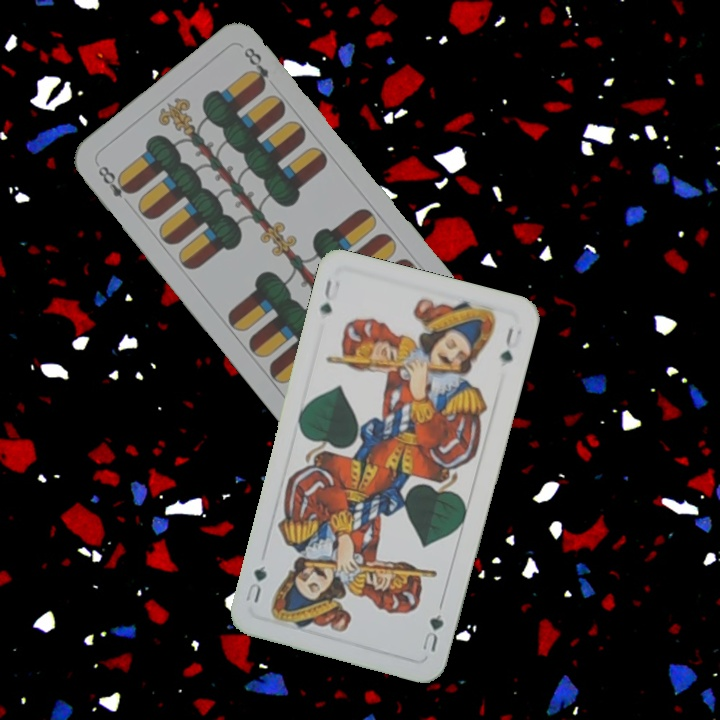E8: (93, 160, 136, 201)
GU: (417, 610, 446, 654), (316, 274, 337, 318)
